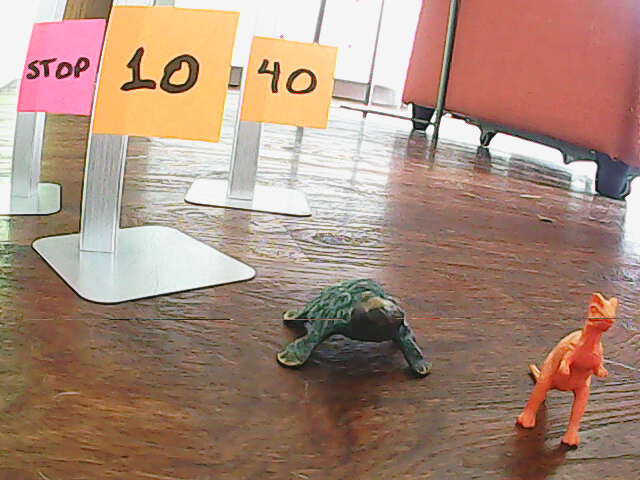10: (108, 6, 226, 142)
40: (244, 43, 339, 120)
dinosaur: (516, 284, 624, 456)
stop: (22, 22, 95, 115)
turtle: (280, 280, 432, 383)
